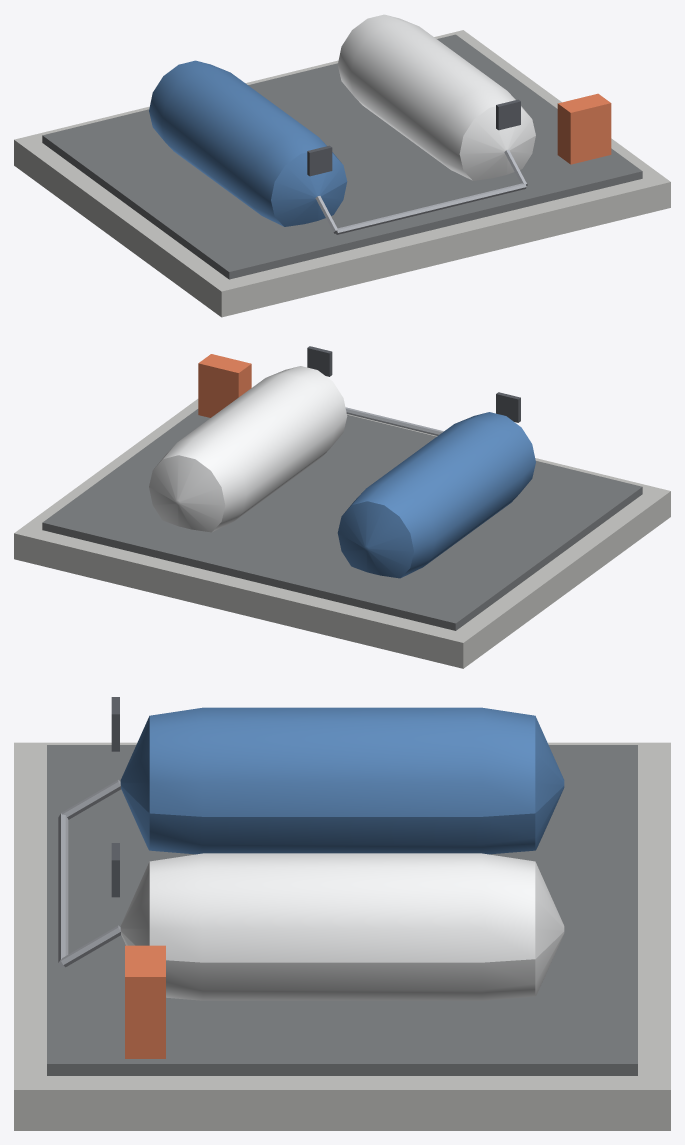
File: aircraft-fleet-and-airfield-fuel-store-c507fee9__32829.glb
3 renders of one model, top to bottom at view 1: azimuth 30°, elevation 25°; view 2: azimuth 150°, elevation 25°; view 3: azimuth 270°, elevation 25°, orthographic. The views are drawn at different scales.
Visible parts, largest first — view 1: fuel-store; view 2: fuel-store; view 3: fuel-store.
Boxes of the visible parts, left/top/right/bottom form: fuel-store: left=14, top=14, right=670, bottom=317; fuel-store: left=14, top=346, right=670, bottom=668; fuel-store: left=14, top=697, right=670, bottom=1130.
Size of the model in its own units: 10 by 2.4 by 8.
